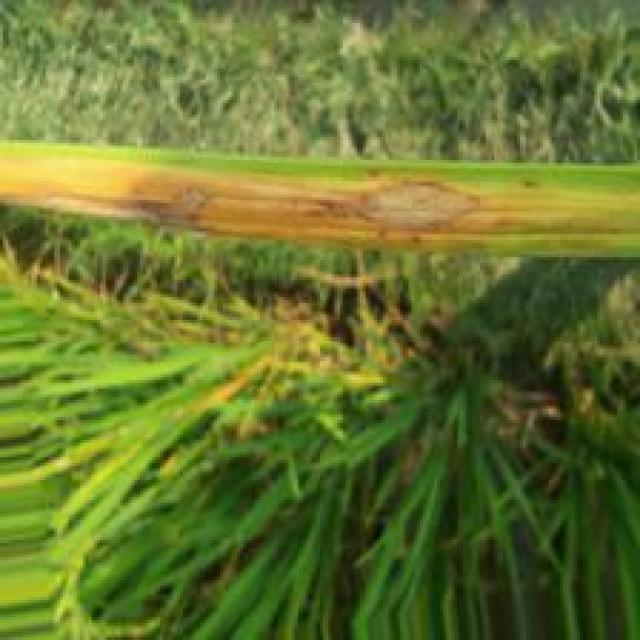Rice Tungro: (0, 158, 512, 252)
